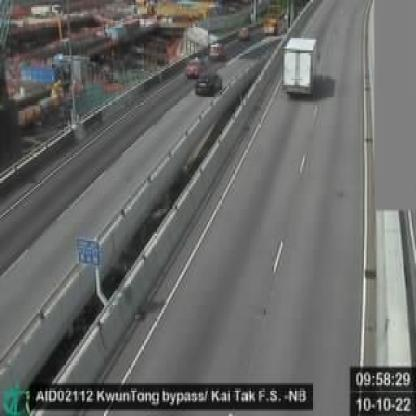Car: (194, 73, 218, 94), (186, 56, 204, 80), (207, 42, 229, 61)
Truck: (285, 33, 317, 96)
